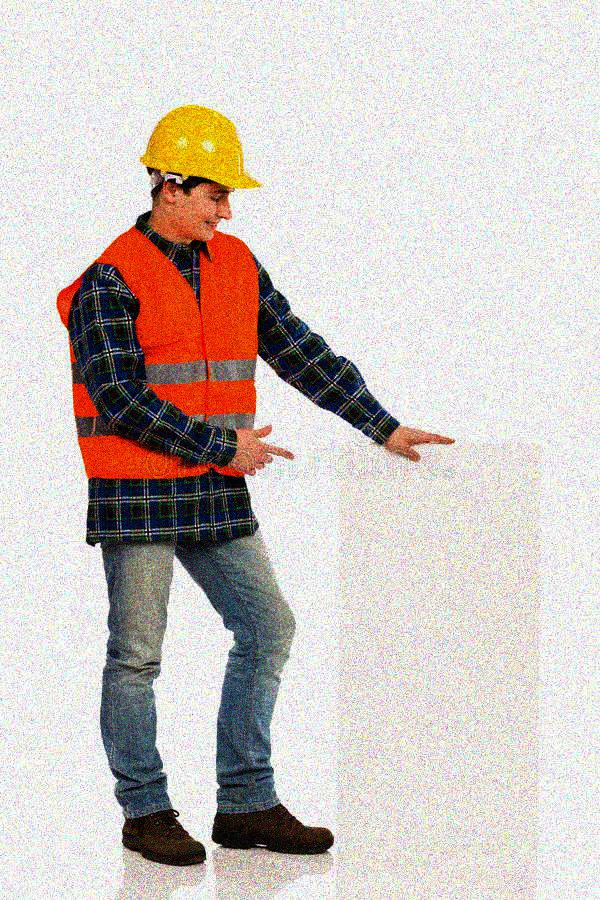helmet: (142, 101, 261, 253)
